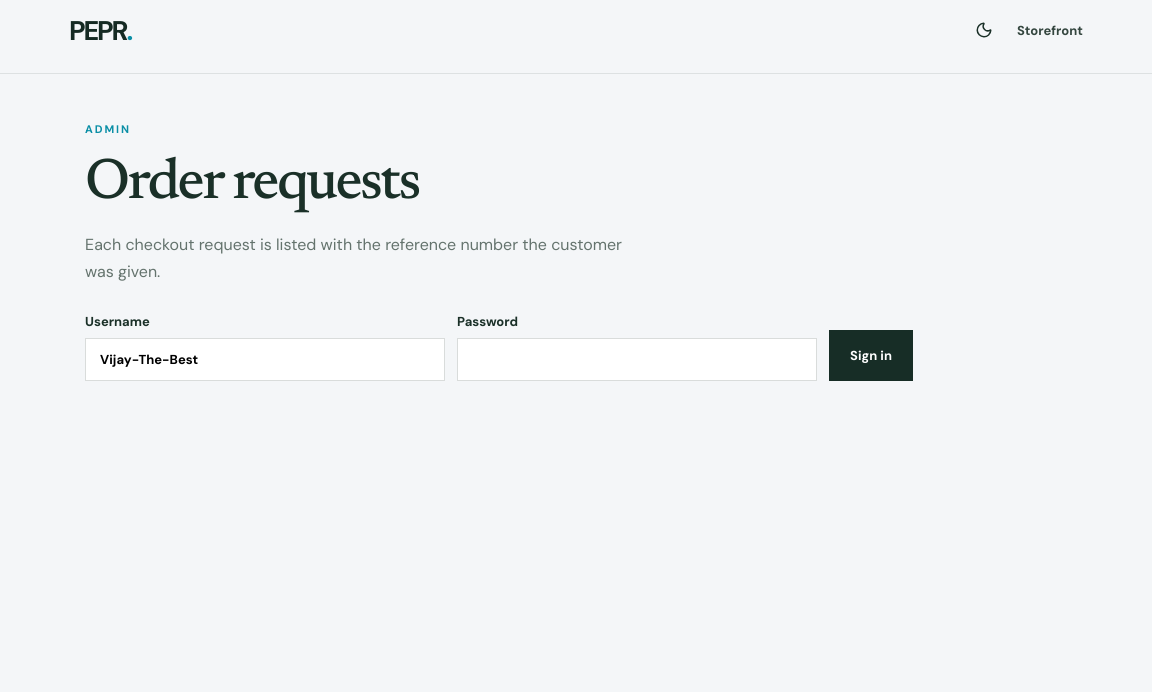
Test case: admin order page › updates the password from the dashboard
Type "current-password" into the password field labelled "Password" at (637, 360), box [457, 338, 817, 381]
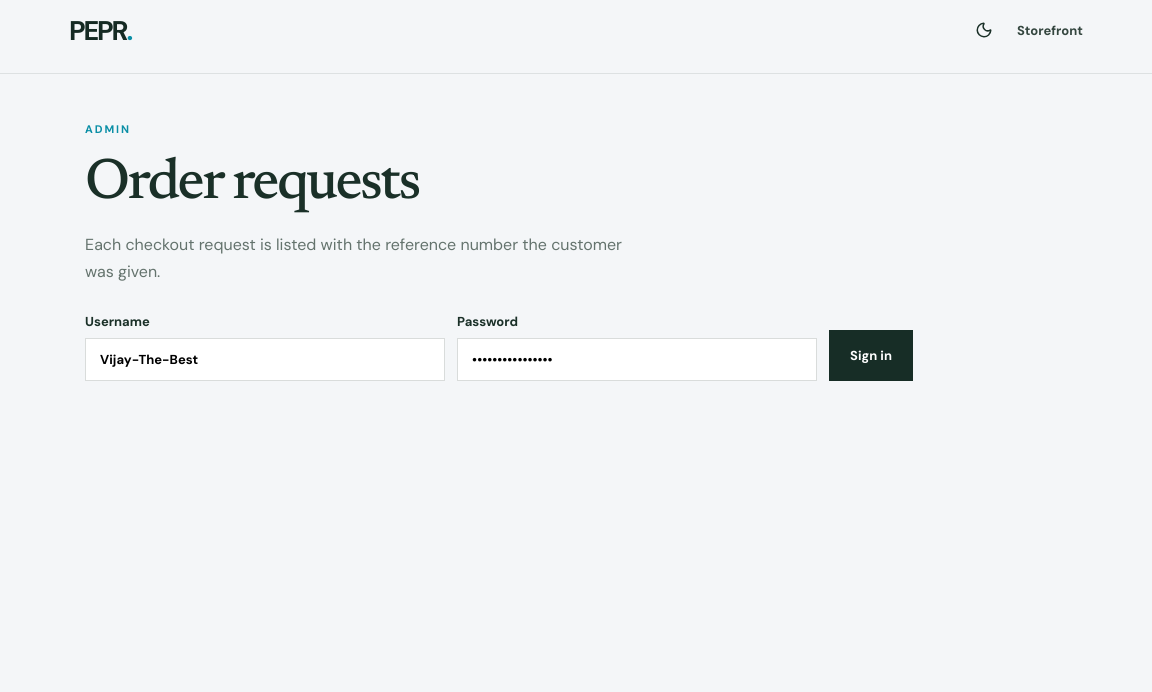
Click the button "Sign in" at (871, 356), box [829, 330, 913, 381]
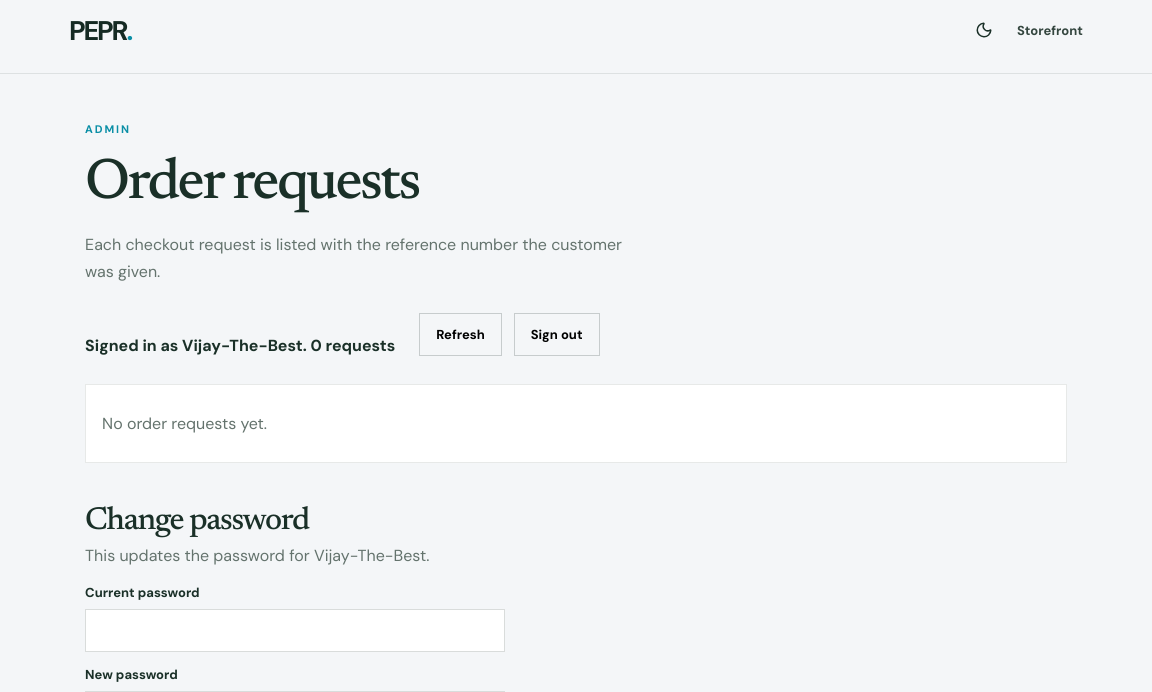
Check: the heading "Change password" is shown, box [85, 505, 309, 537]
Type "current-password" into the password field labelled "Current password" at (295, 631), box [85, 609, 505, 652]
(page scrolled)
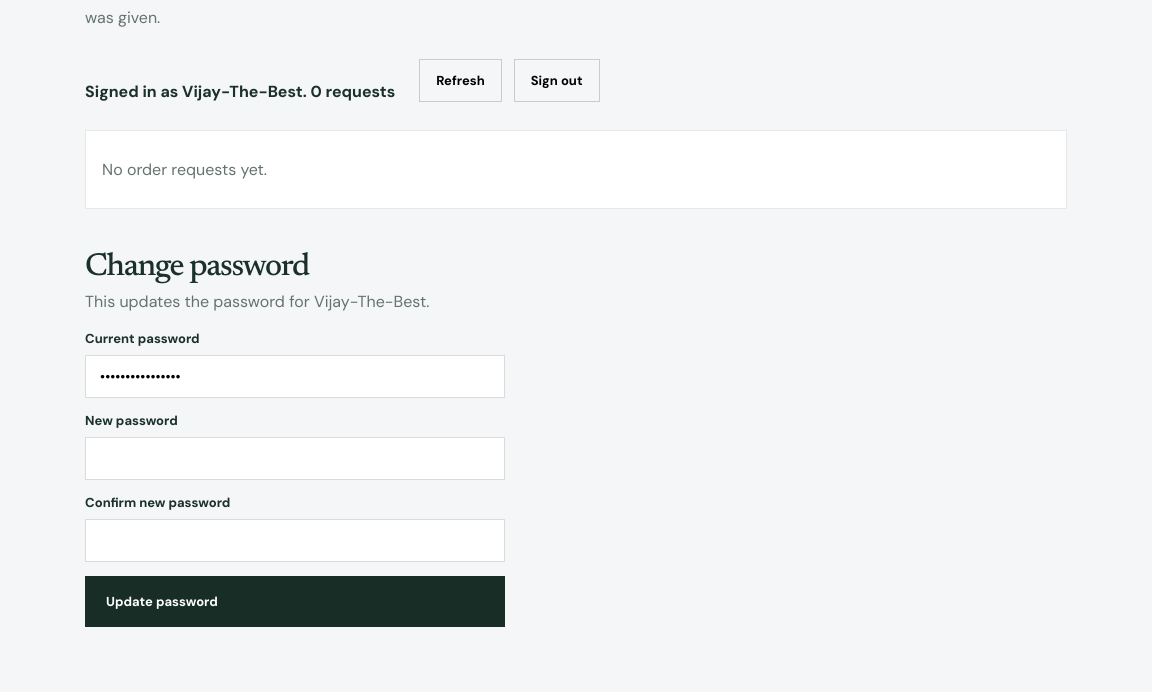
Type "next-password" into the password field labelled "New password" at (295, 459), box [85, 437, 505, 480]
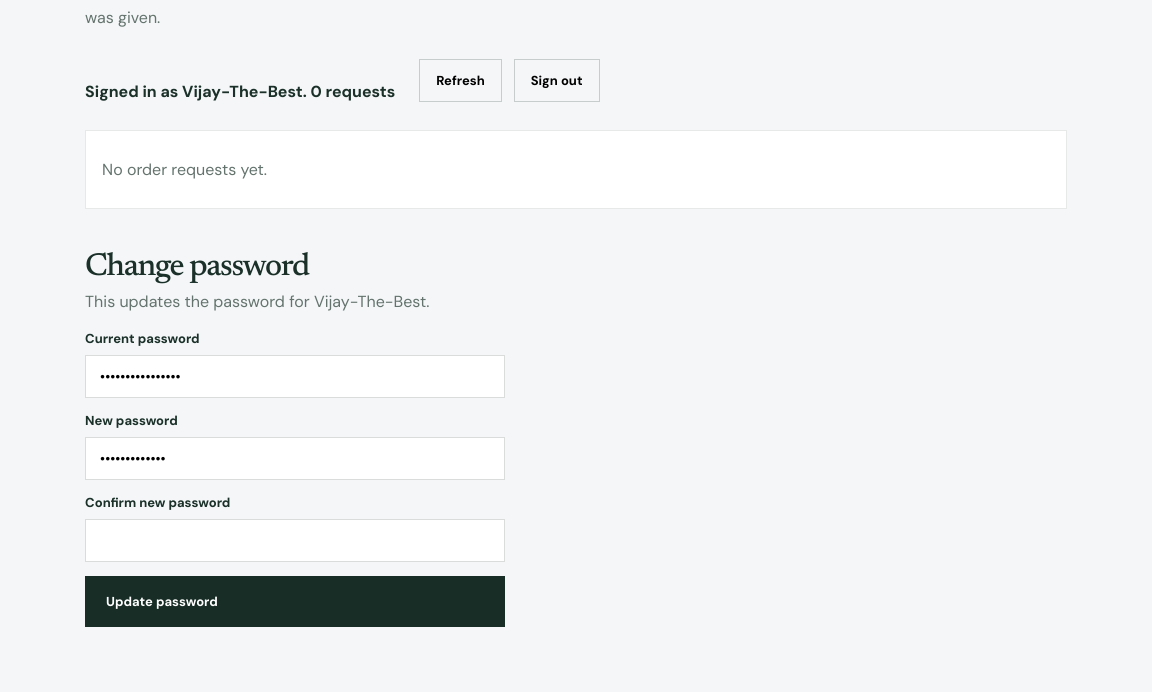
Type "next-password" into the password field labelled "Confirm new password" at (295, 541), box [85, 519, 505, 562]
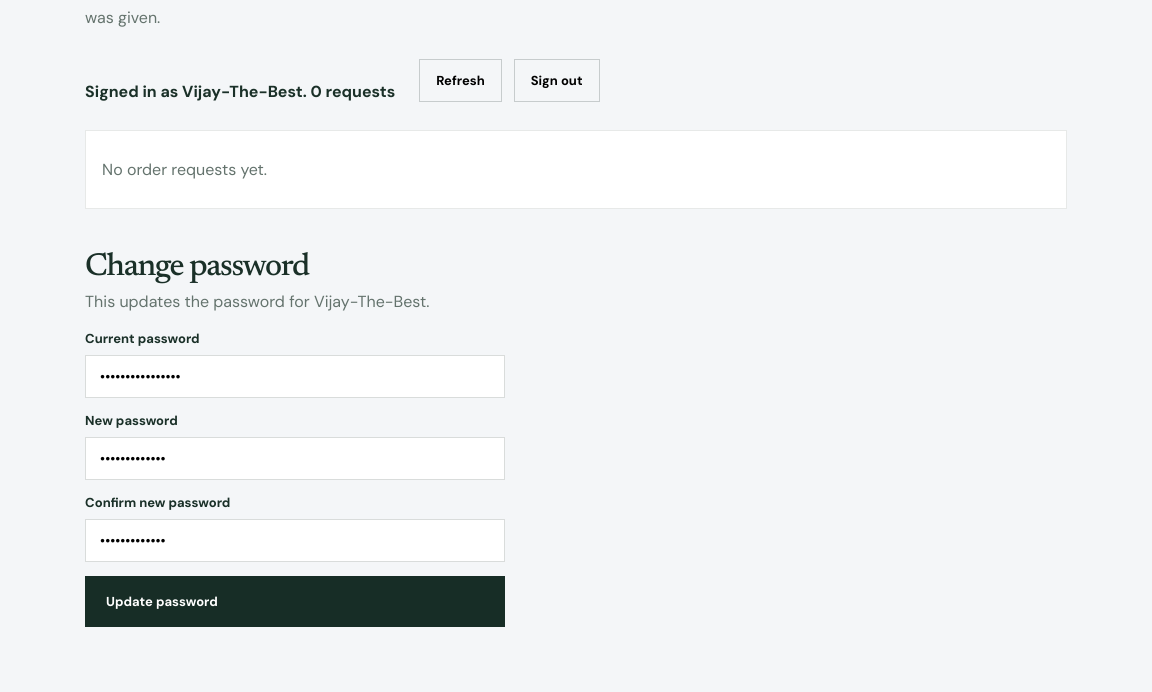
Click the button "Update password" at (162, 602), box [85, 576, 505, 627]
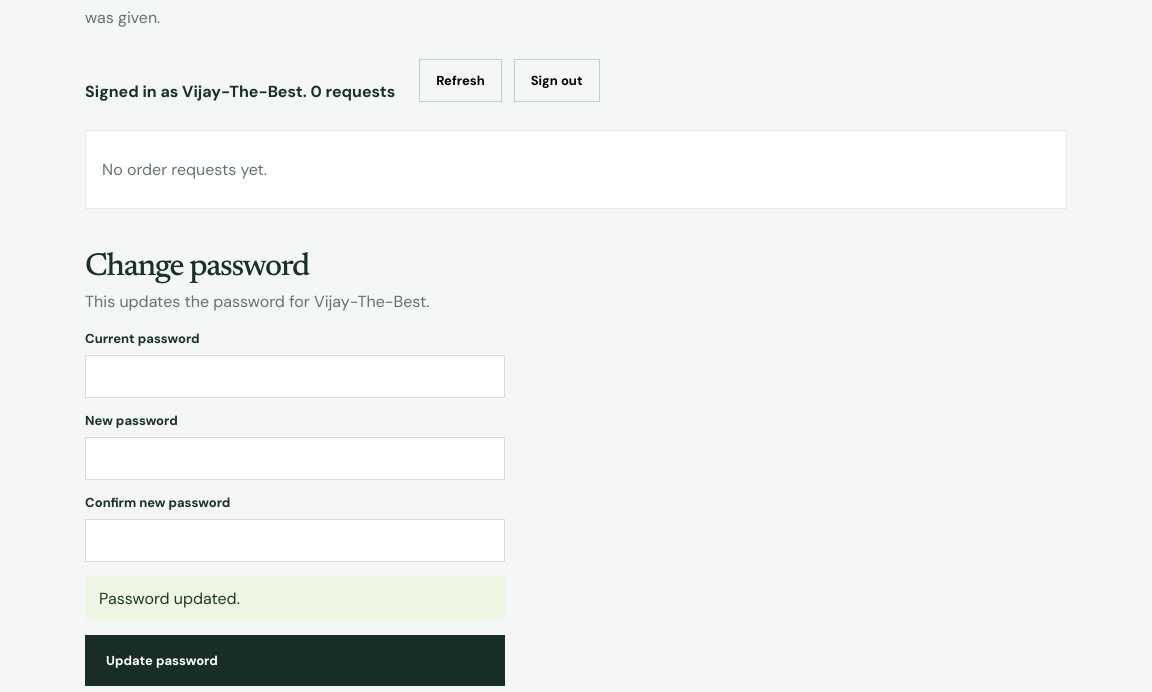
Check: the text "Password updated." is shown, box [85, 576, 505, 621]
